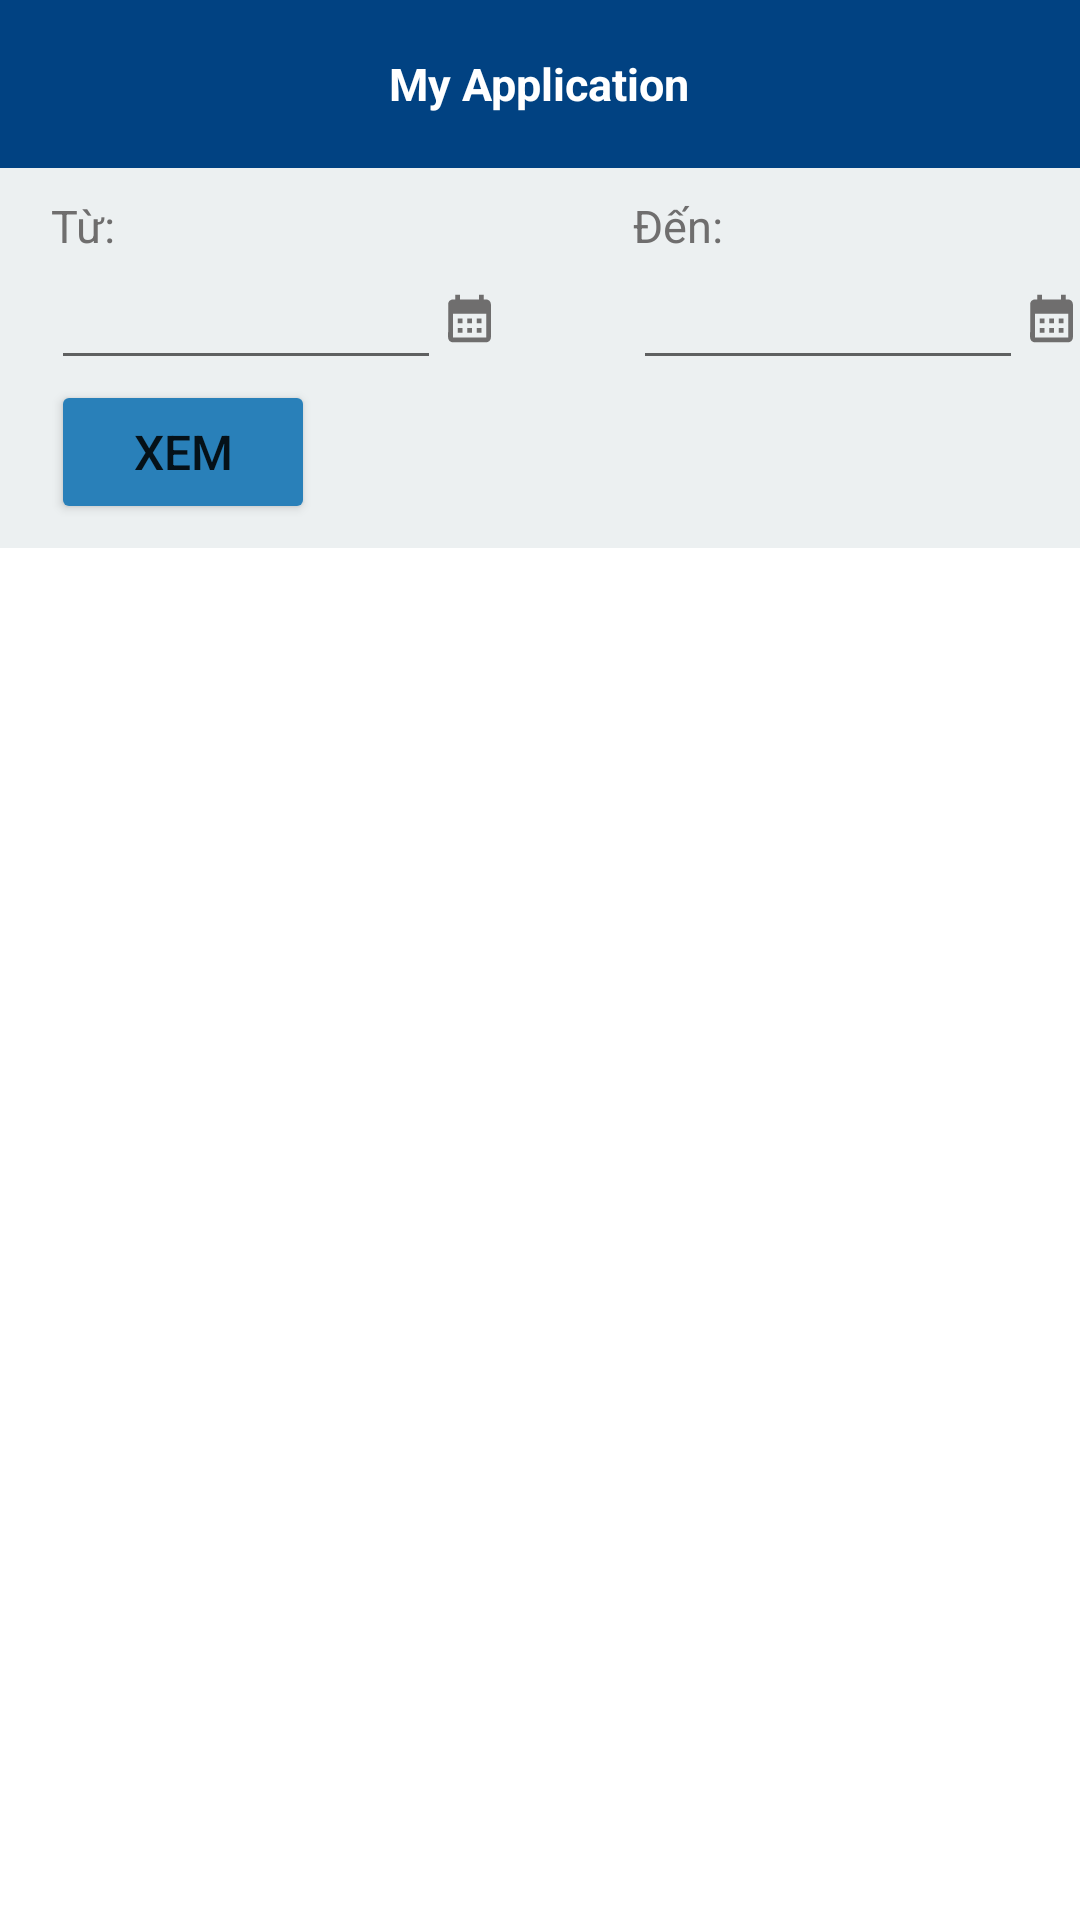

Icon bounding boxes for this 1080px×1920px phone screenshot, format (x1, y1, x2, y2):
calendar: (448, 294, 491, 343), (1030, 294, 1073, 343)
